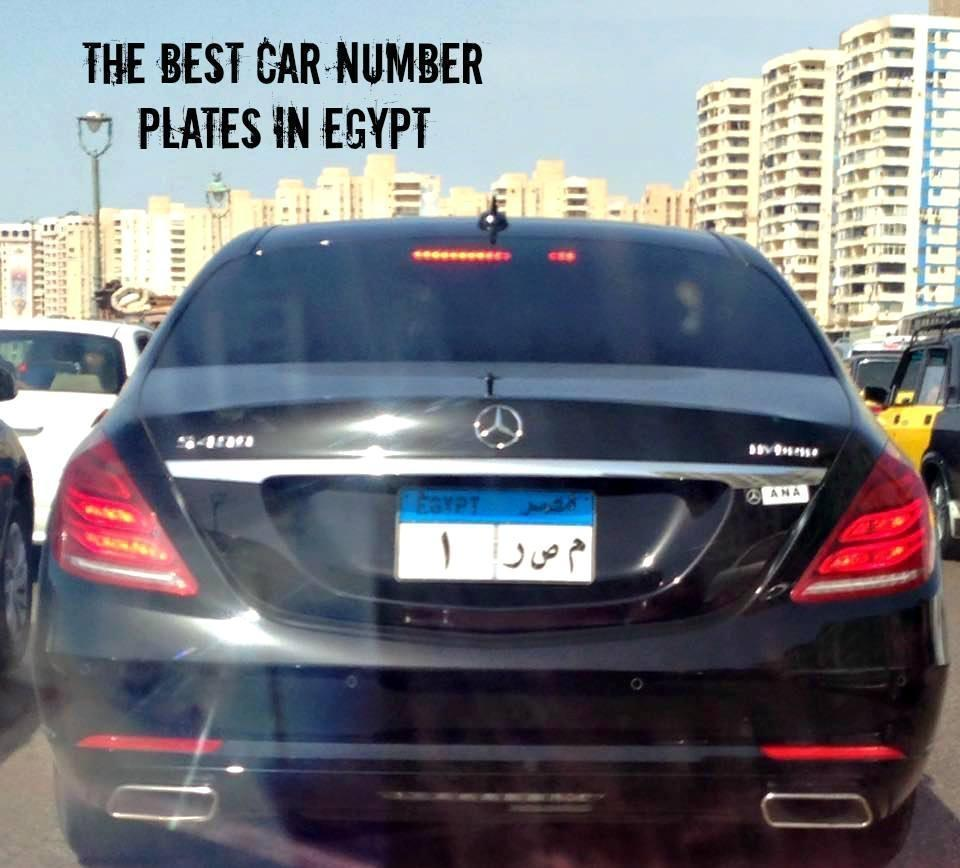1: (437, 528, 455, 572)
License Plate: (391, 481, 602, 587)
Meem: (567, 532, 587, 576)
R: (502, 537, 526, 573)
Saad: (529, 540, 561, 573)
car: (0, 318, 126, 437), (876, 330, 960, 480)
